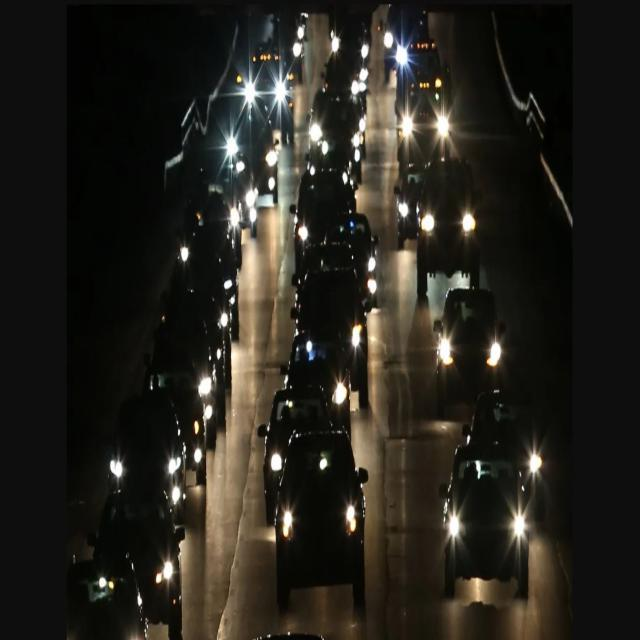headlights: (266, 499, 366, 554), (433, 506, 535, 558), (425, 336, 511, 374), (408, 209, 483, 246), (390, 106, 454, 148), (232, 70, 297, 111)
